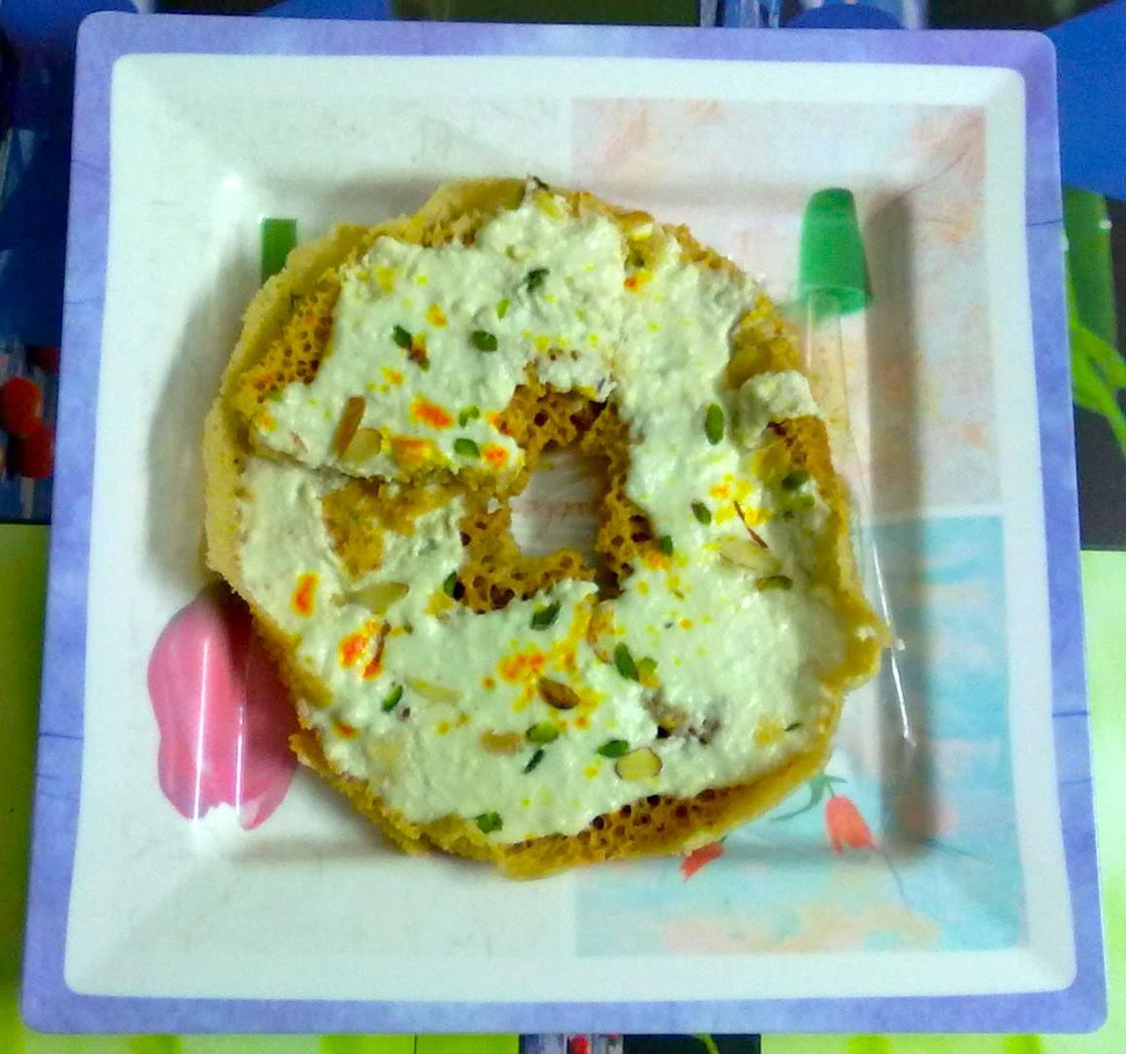Ghevar: (205, 167, 888, 875)
